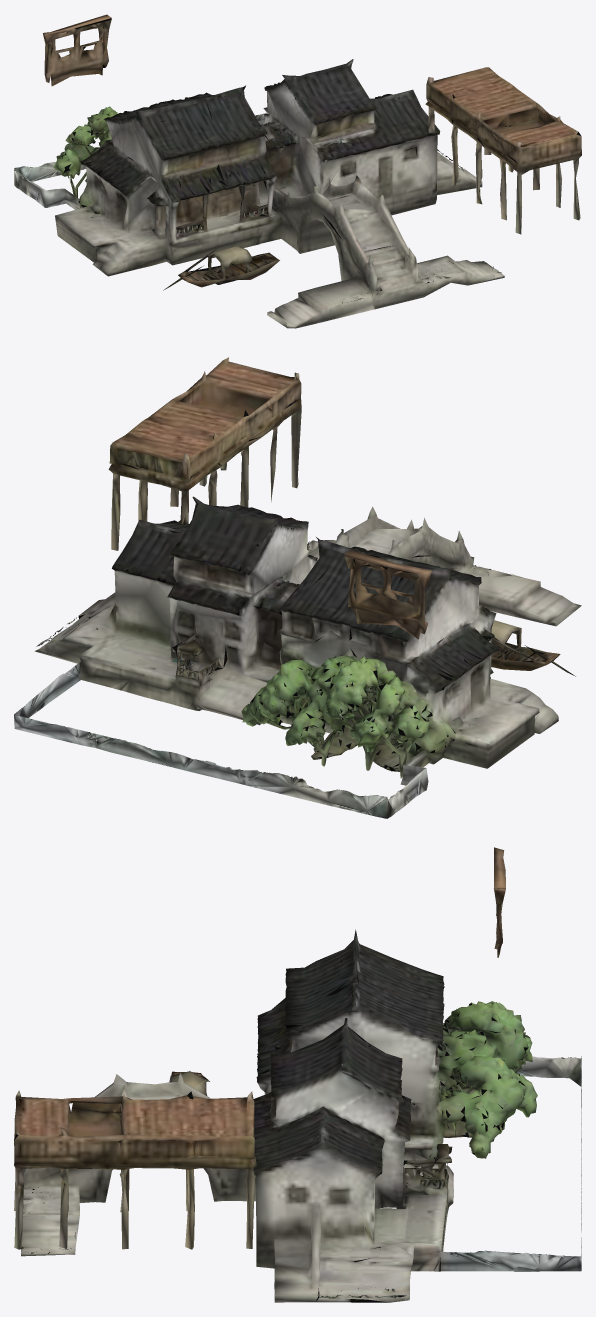
Rendered from bq_canal_house.bk.glb.
The picture shows the model from 3 angles, top to bottom: view 1: azimuth 30°, elevation 25°; view 2: azimuth 150°, elevation 25°; view 3: azimuth 270°, elevation 25°; orthographic projection. The views are drawn at different scales.
Visible parts, largest first — view 1: lo; view 2: lo; view 3: lo.
Boxes of the visible parts, box(x1,y1,x2,y2) form: lo: box(14, 14, 581, 328); lo: box(14, 357, 581, 818); lo: box(14, 847, 581, 1302).
Size of the model in its own units: 1.88 by 0.8601 by 1.9.
1 material, 1 textured.
